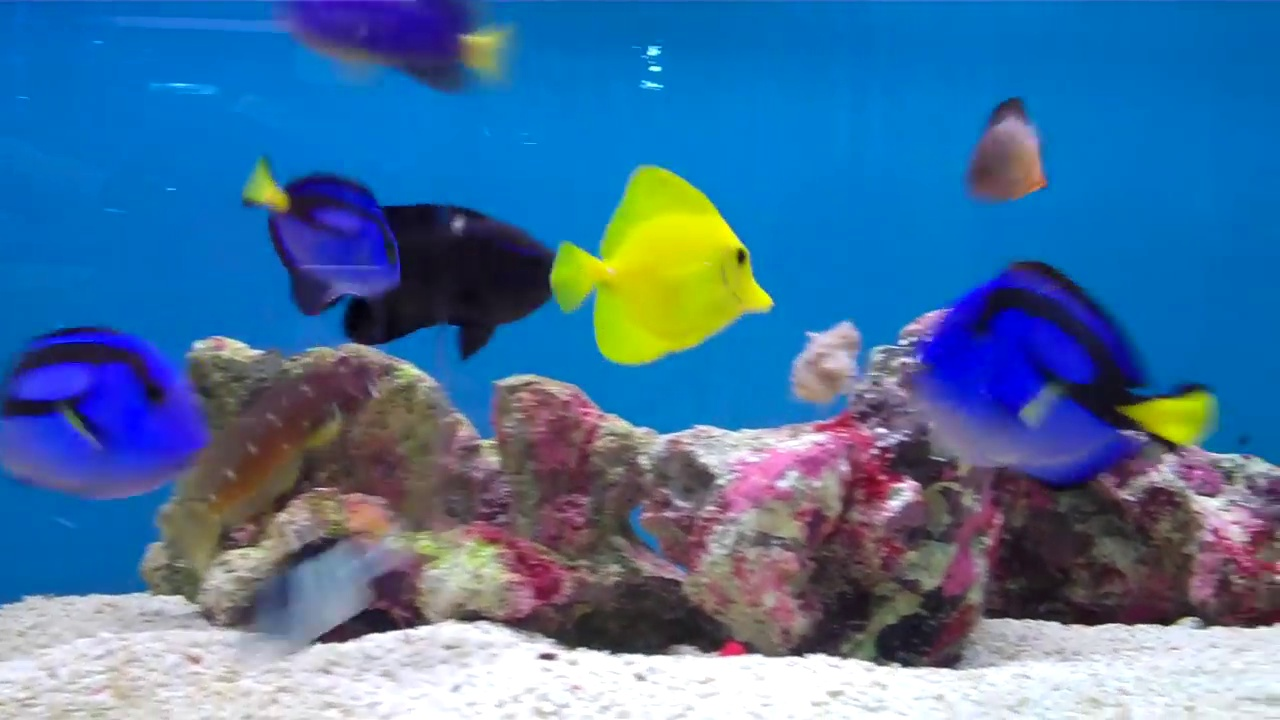blue tang surgeonfish: (900, 248, 1202, 503), (9, 316, 201, 491), (231, 144, 401, 316)
saddle butterfly fish: (541, 146, 775, 364)
